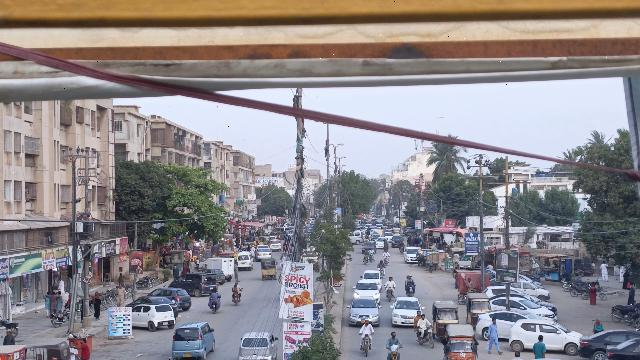Bike: (415, 326, 435, 349), (359, 333, 374, 358), (386, 345, 403, 360), (229, 292, 244, 307), (404, 284, 419, 297), (383, 285, 396, 299), (210, 301, 221, 316)
Car: (508, 316, 579, 352), (171, 320, 217, 360), (576, 328, 632, 354), (236, 328, 279, 360), (129, 303, 176, 331), (169, 271, 218, 297), (151, 285, 192, 314), (346, 295, 383, 327), (389, 295, 423, 324), (352, 281, 382, 299)
Person: (484, 315, 504, 351), (89, 290, 103, 322), (532, 332, 547, 360), (358, 315, 375, 338), (386, 328, 403, 349), (114, 280, 126, 308), (418, 308, 431, 333), (208, 289, 222, 305), (413, 309, 425, 327), (3, 328, 15, 345), (385, 275, 396, 289), (405, 274, 417, 286), (231, 282, 242, 294)
Rickshaw: (440, 325, 479, 360), (431, 301, 460, 337), (464, 293, 489, 324), (259, 256, 279, 282)
Truck: (204, 255, 235, 279)
